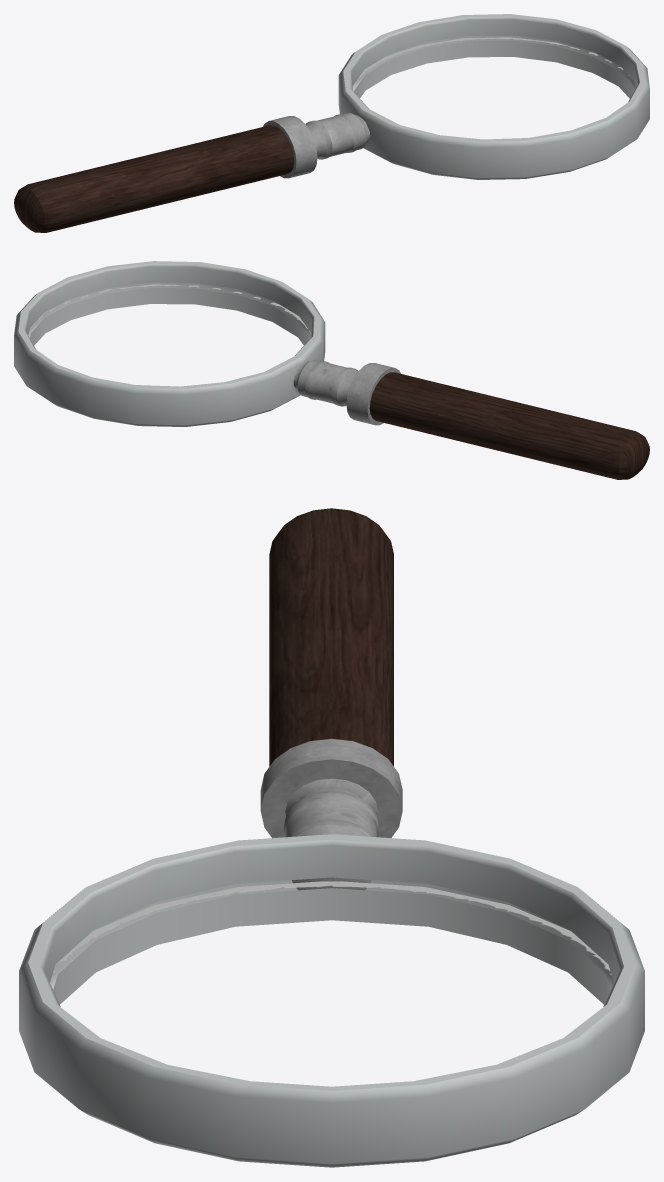
The model's file is magnifier.glb.
3 views of the same model, one above another, from view 1: azimuth 30°, elevation 25°; view 2: azimuth 150°, elevation 25°; view 3: azimuth 270°, elevation 25° (orthographic). The views are drawn at different scales.
Parts seen in each view (by area): view 1: polySurface4, pasted__polySurface3, pasted__polySurface1, pasted__polySurface4, polySurface5; view 2: polySurface4, pasted__polySurface3, pasted__polySurface1, pasted__polySurface4, polySurface5; view 3: polySurface4, pasted__polySurface3, pasted__polySurface4, pasted__polySurface1, polySurface5.
Part boxes in pixels (x1,y1,x2,y2): polySurface4: [338, 14, 649, 179]; pasted__polySurface3: [14, 125, 294, 232]; pasted__polySurface1: [305, 113, 370, 159]; pasted__polySurface4: [263, 116, 317, 178]; polySurface5: [352, 37, 628, 86]; polySurface4: [14, 261, 325, 426]; pasted__polySurface3: [369, 372, 649, 479]; pasted__polySurface1: [293, 360, 358, 406]; pasted__polySurface4: [346, 363, 400, 425]; polySurface5: [31, 284, 311, 334]; polySurface4: [19, 834, 644, 1167]; pasted__polySurface3: [269, 508, 393, 766]; pasted__polySurface4: [260, 738, 402, 838]; pasted__polySurface1: [284, 778, 379, 890]; polySurface5: [51, 881, 611, 977].
Size of the model in its own units: 2 by 0.1628 by 0.8944.
1 material, 1 textured.
